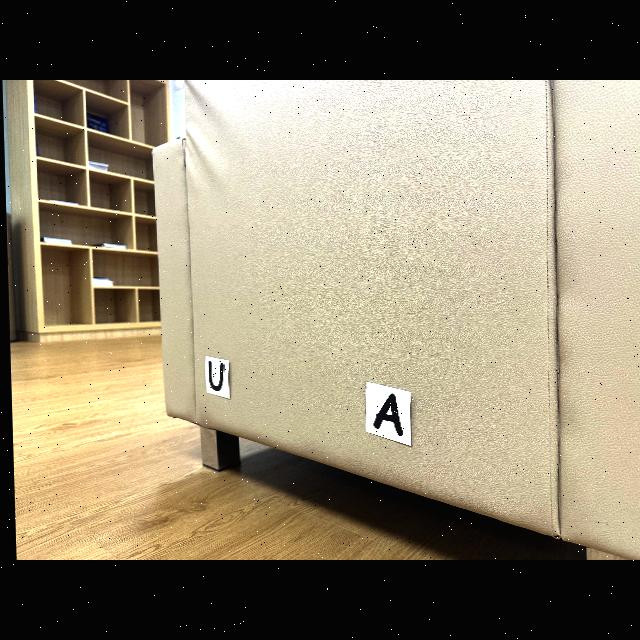A: (371, 394, 400, 436)
U: (207, 362, 222, 391)
